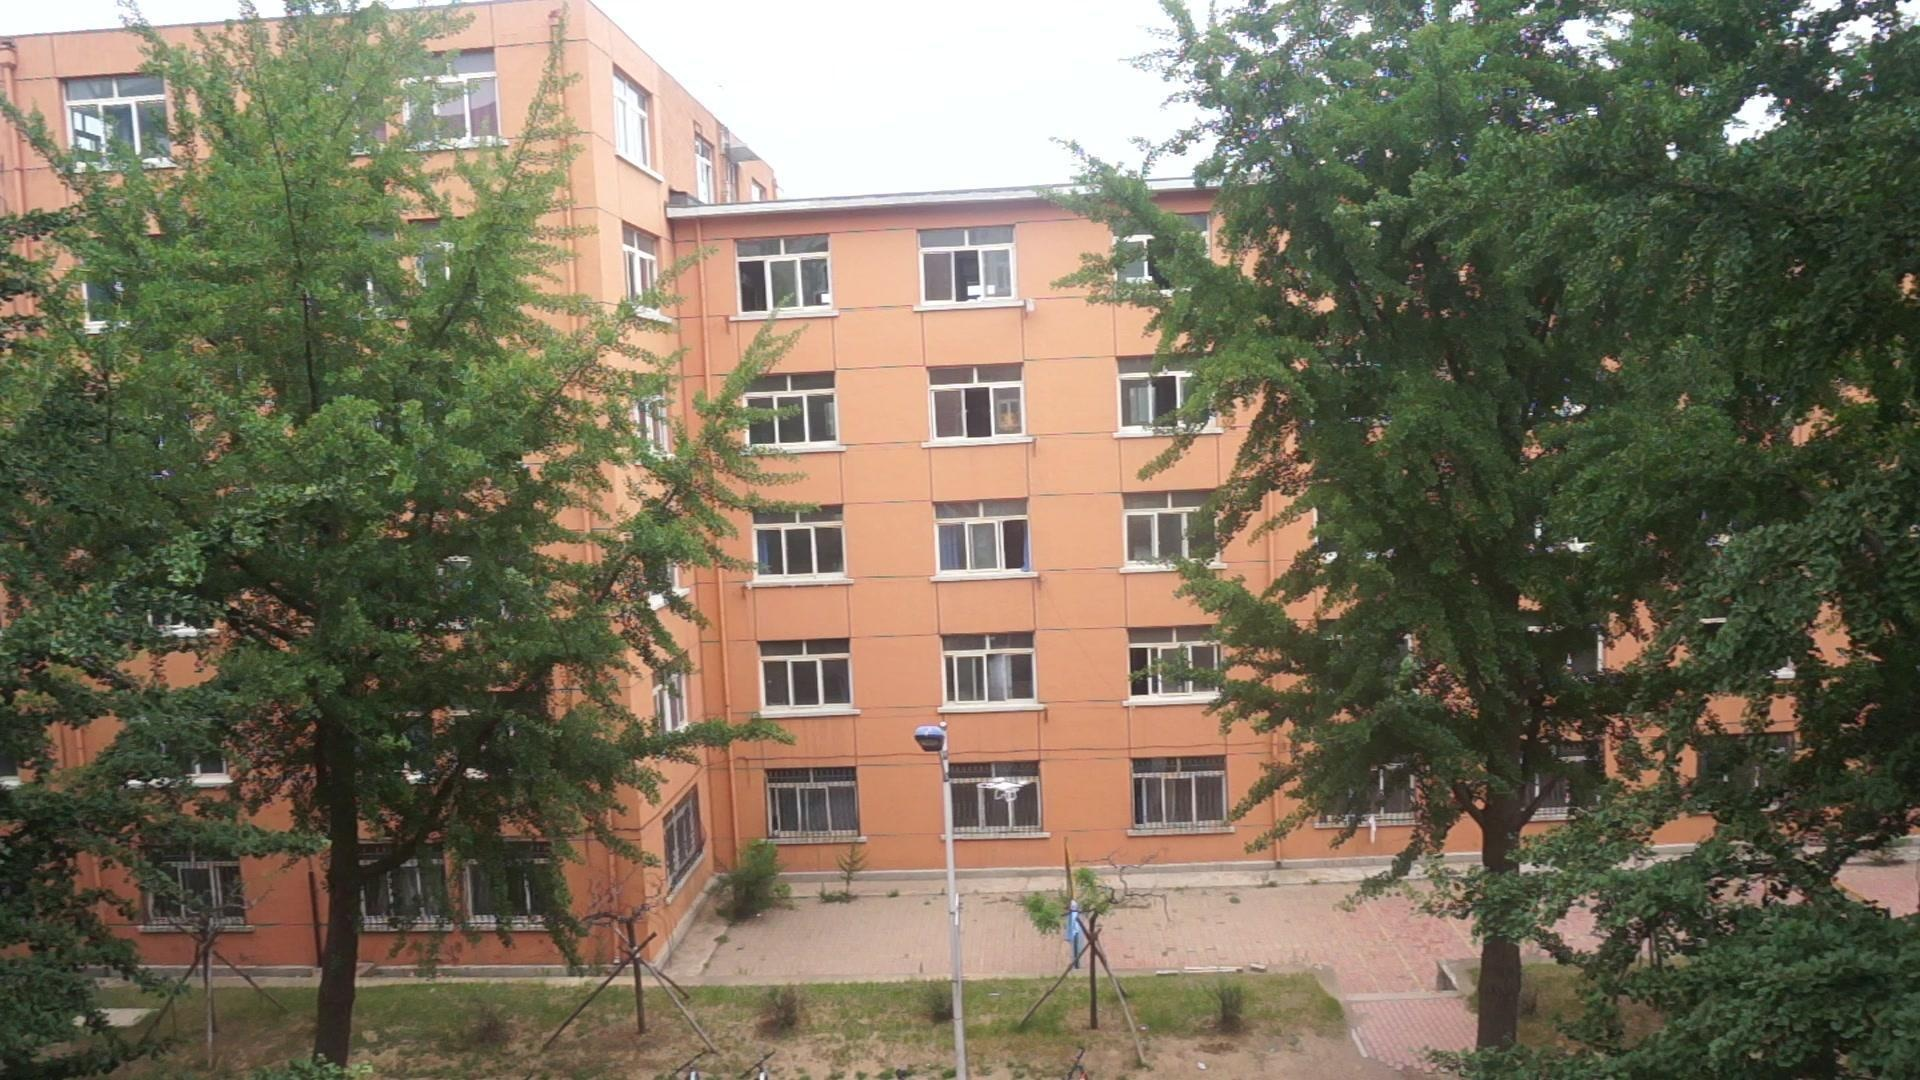UAV: (977, 775, 1031, 803)
